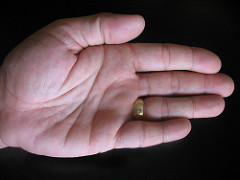palm: (23, 38, 126, 153)
